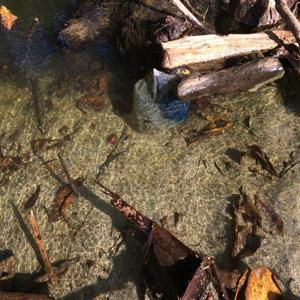plastic: (152, 63, 188, 130)
